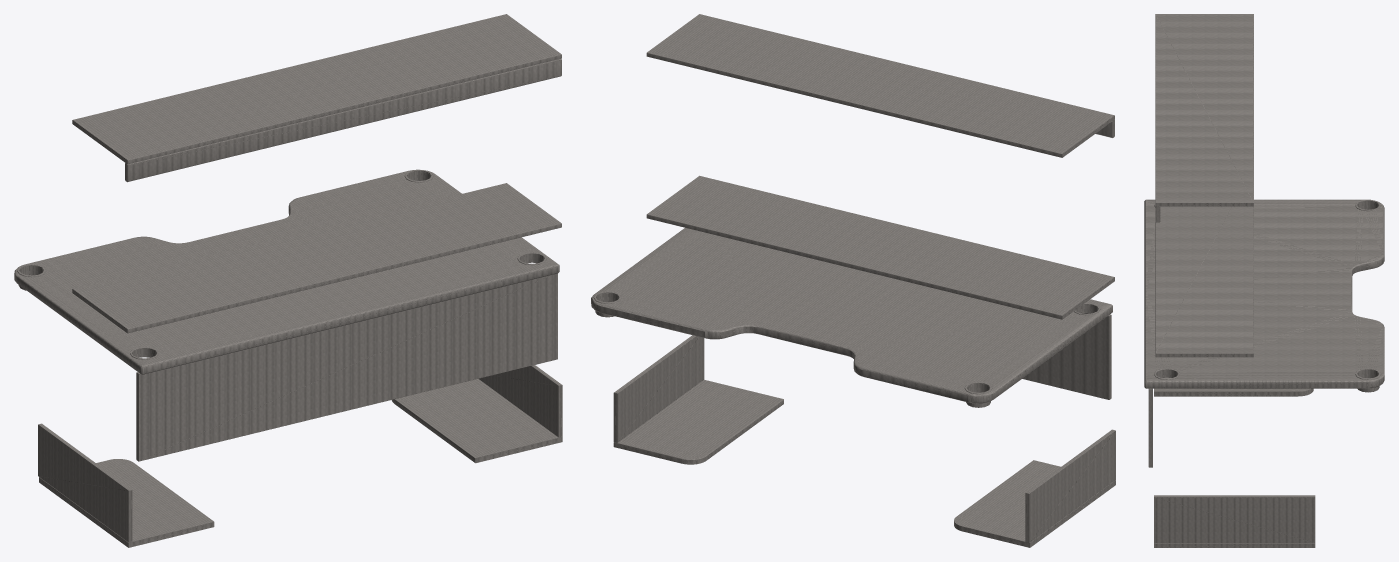
3 renders of one model, left to right at view 1: azimuth 30°, elevation 25°; view 2: azimuth 150°, elevation 25°; view 3: azimuth 270°, elevation 25°, orthographic. The views are drawn at different scales.
Size of the model in its own units: 1.38 by 1.17 by 0.74.
Materials: 1 (1 with a texture image).
